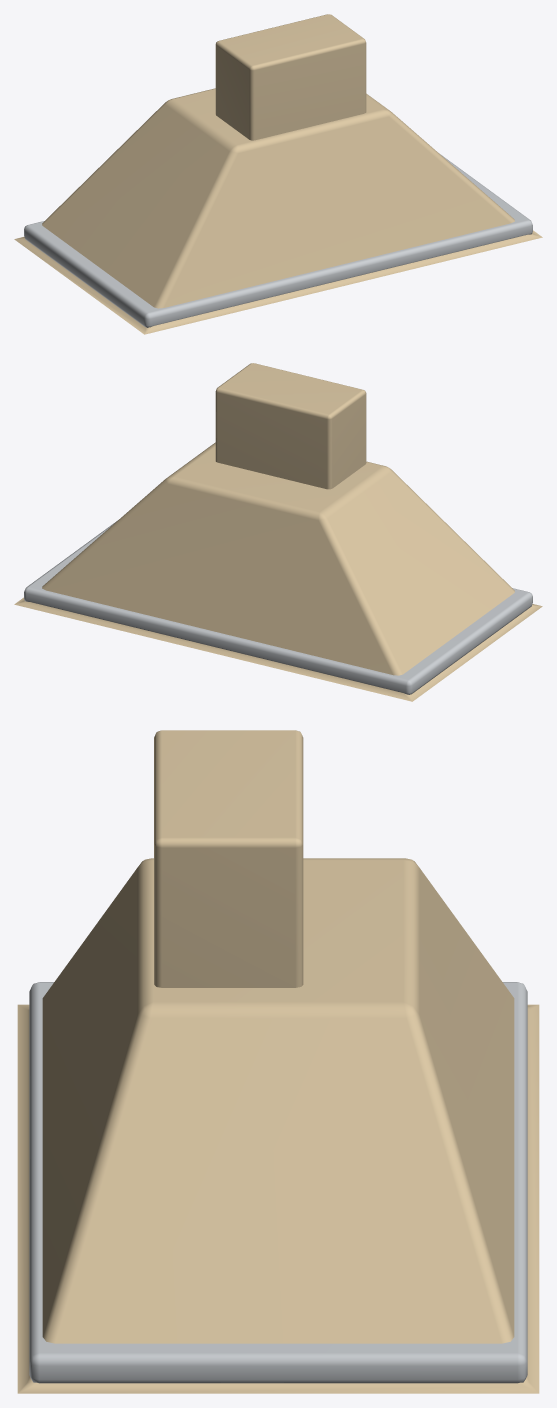
The model's file is range_hood.glb.
The picture shows the model from 3 angles, top to bottom: view 1: azimuth 30°, elevation 25°; view 2: azimuth 150°, elevation 25°; view 3: azimuth 270°, elevation 25°; orthographic projection. The views are drawn at different scales.
Visible parts, largest first — view 1: canopy; view 2: canopy; view 3: canopy.
Part boxes in pixels (x1,y1,x2,y2): canopy: (14,14,542,334); canopy: (14,363,542,701); canopy: (17,730,539,1393).
Size of the model in its own units: 0.924 by 0.464 by 0.524.
